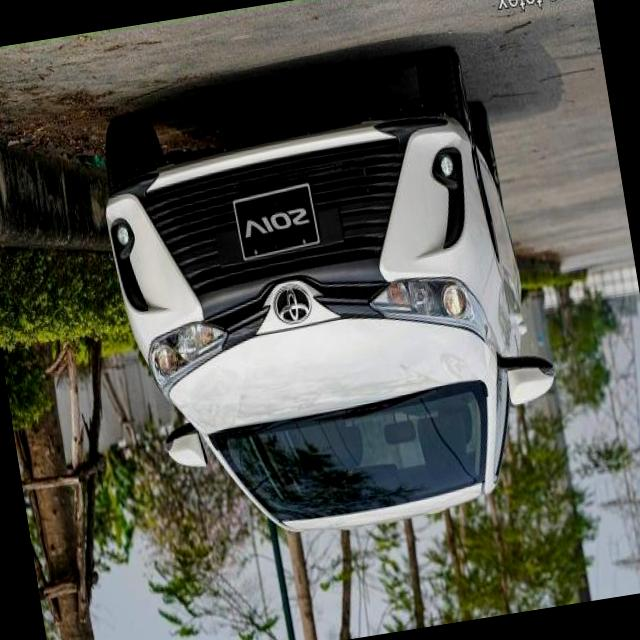ToyotaVios: (86, 39, 574, 562)
